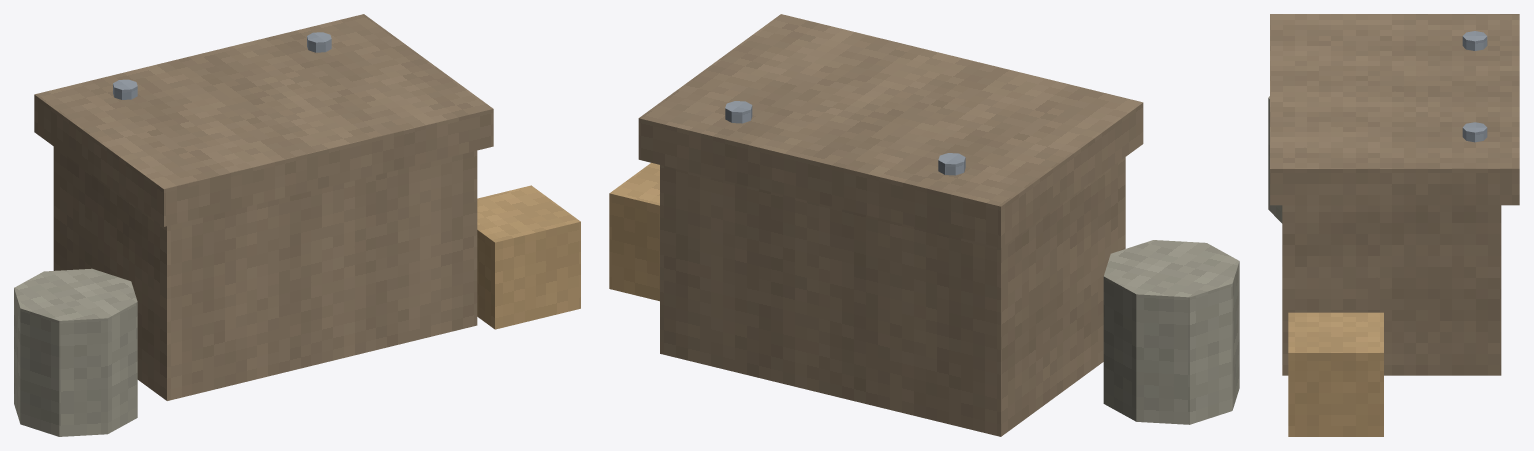
The model's file is level_blockout_toy_chest_scatter.glb.
3 views of the same model, side by side, from view 1: azimuth 30°, elevation 25°; view 2: azimuth 150°, elevation 25°; view 3: azimuth 270°, elevation 25° (orthographic). The views are drawn at different scales.
Parts seen in each view (by area): view 1: level_blockout_toy_chest_scatter; view 2: level_blockout_toy_chest_scatter; view 3: level_blockout_toy_chest_scatter.
Part boxes in pixels (box(x1,y1,x2,y2)): level_blockout_toy_chest_scatter: box(14, 14, 580, 436); level_blockout_toy_chest_scatter: box(609, 14, 1239, 436); level_blockout_toy_chest_scatter: box(1268, 14, 1519, 436).
Size of the model in its own units: 1.94 by 0.83 by 0.815.
4 materials, 4 textured.
